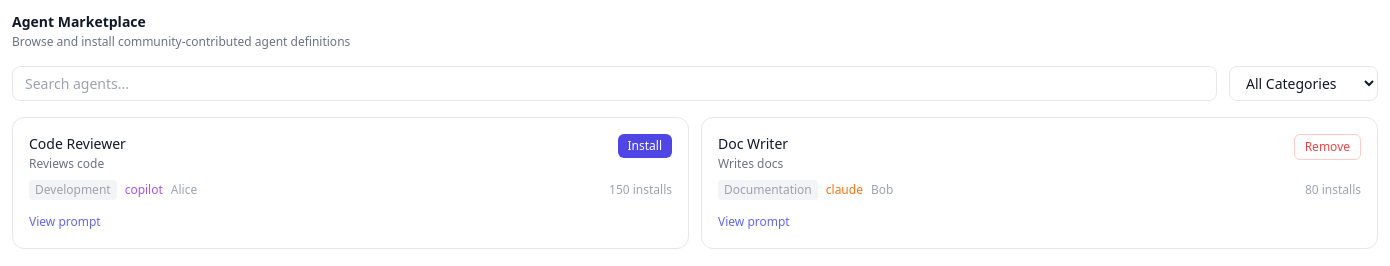
Test case: AgentMarketplace › filters agents by search text
The image size is (1390, 266).
Expected: the heading "Code Reviewer" is shown, [29, 134, 126, 153]
Type "doc" into the field with placeholder "Search agents...".
click(614, 84); type("doc")  # box [12, 66, 1217, 101]
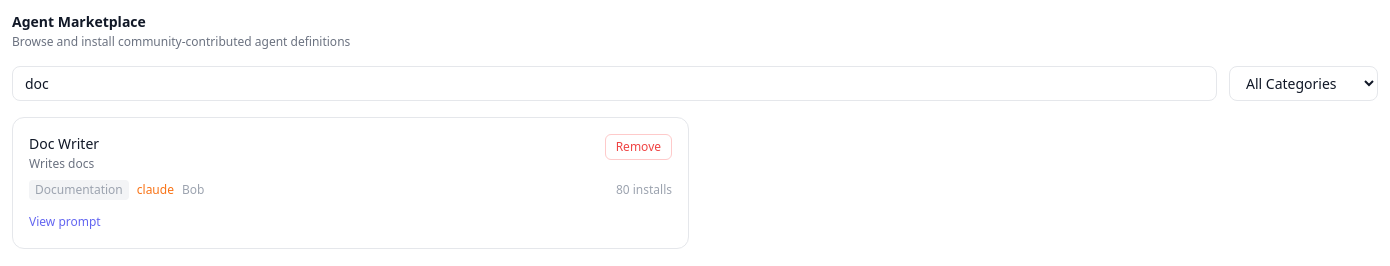
Expected: the heading "Doc Writer" is shown, [29, 134, 99, 153]
Expected: the heading "Code Reviewer" is gone
